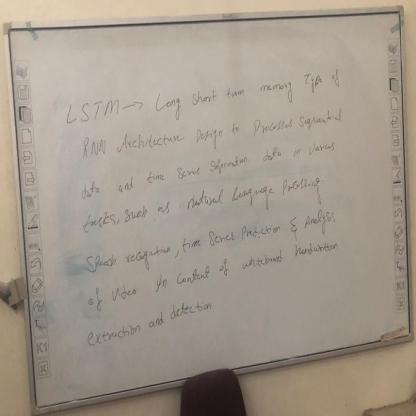Handwritten text: (77, 215, 343, 325), (57, 60, 346, 136), (78, 199, 346, 278), (74, 135, 348, 204), (76, 99, 349, 167), (76, 170, 338, 239), (79, 296, 222, 357)
Whiteboard: (4, 10, 414, 412)
